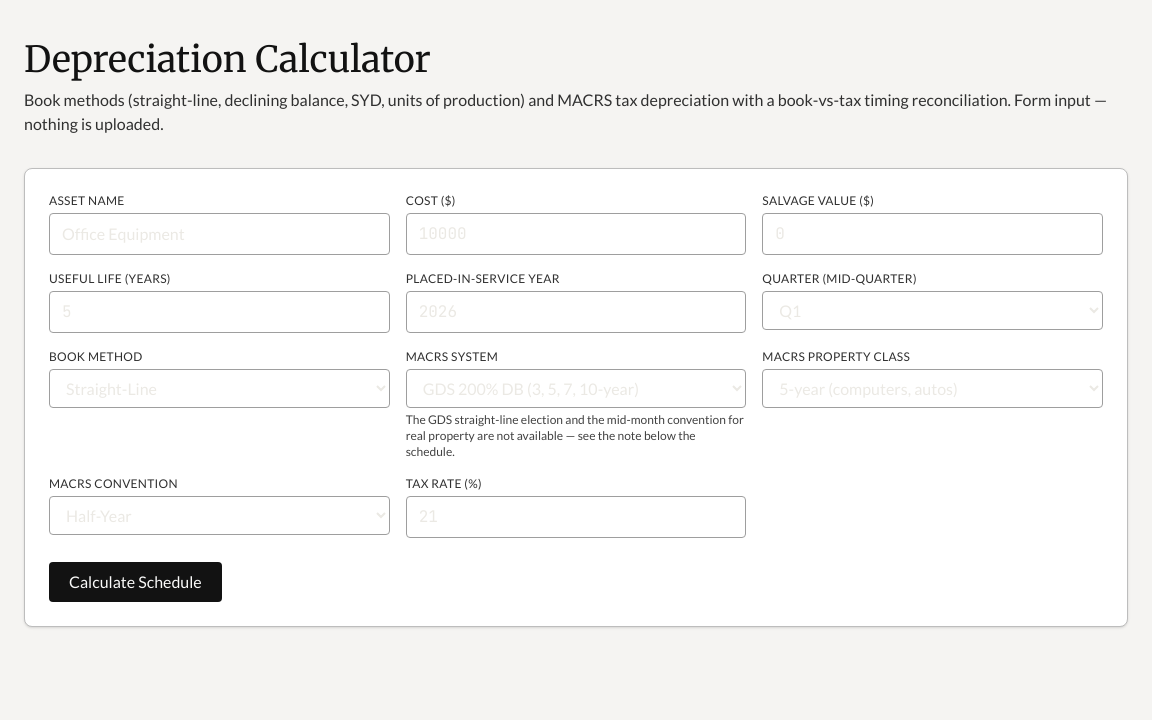
DepreciationPage › surfaces an error message when apiPost returns ok=false
Click the button "Calculate Schedule": [135, 582] box x1=49 y1=562 x2=222 y2=602
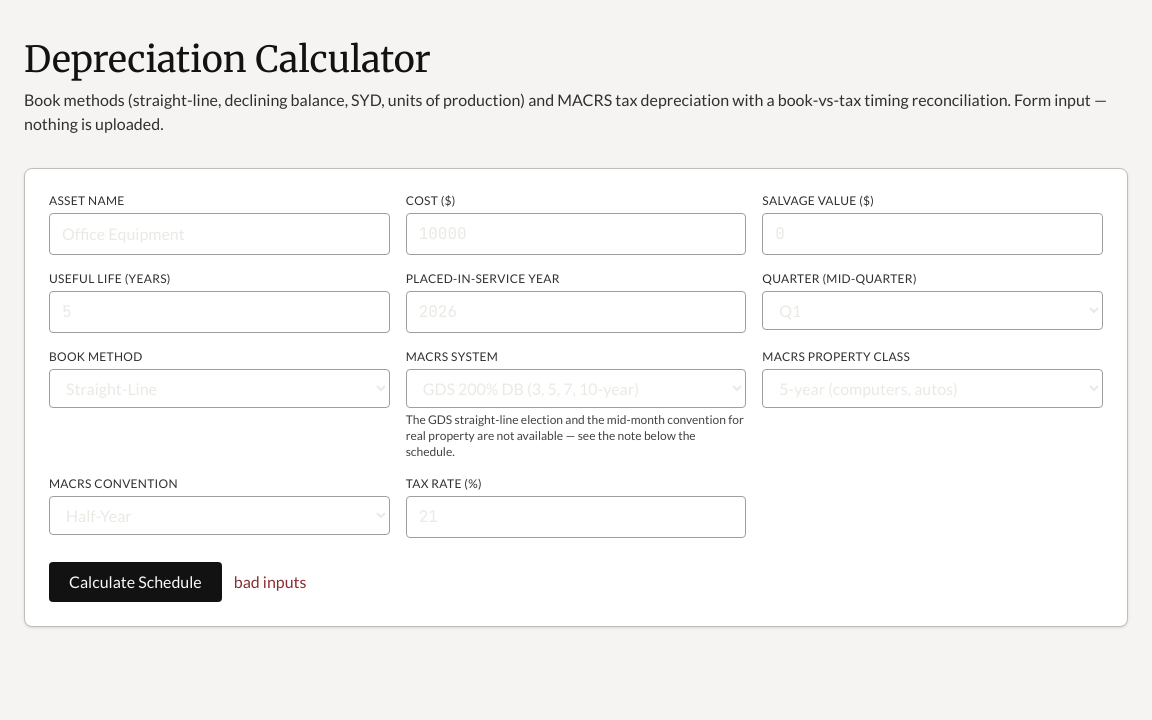
Expected: the text "bad inputs" is shown, x1=234 y1=570 x2=306 y2=594
